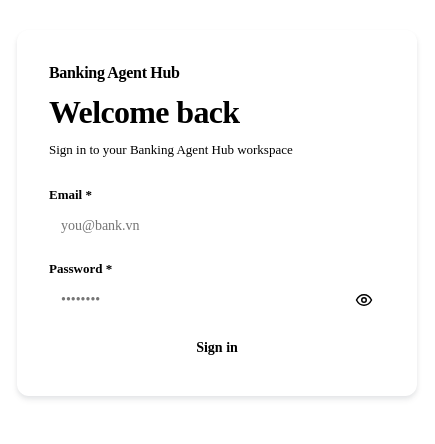
Test: LoginPage › shows inline error in destructive color on failed login
Type "bad@shb.vn" into the field labelled "Email *".
click(217, 226); type("bad@shb.vn")  # box [49,210,385,242]
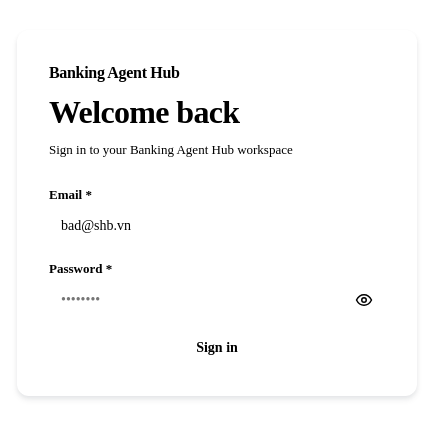
Type "wrong" into the password field labelled "Password *".
click(217, 300); type("wrong")  # box [49,284,385,316]
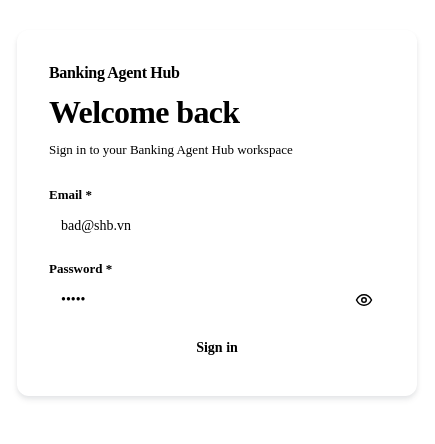
Click the button with test id "vaic-login-submit".
click(217, 348)  # box [49,332,385,364]
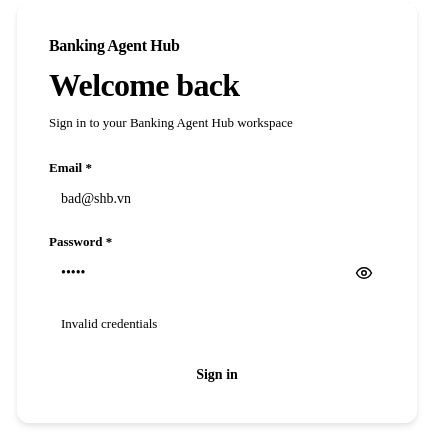
Expected: the message with test id "vaic-login-error" reads "Invalid credentials", [61,316,157,331]
